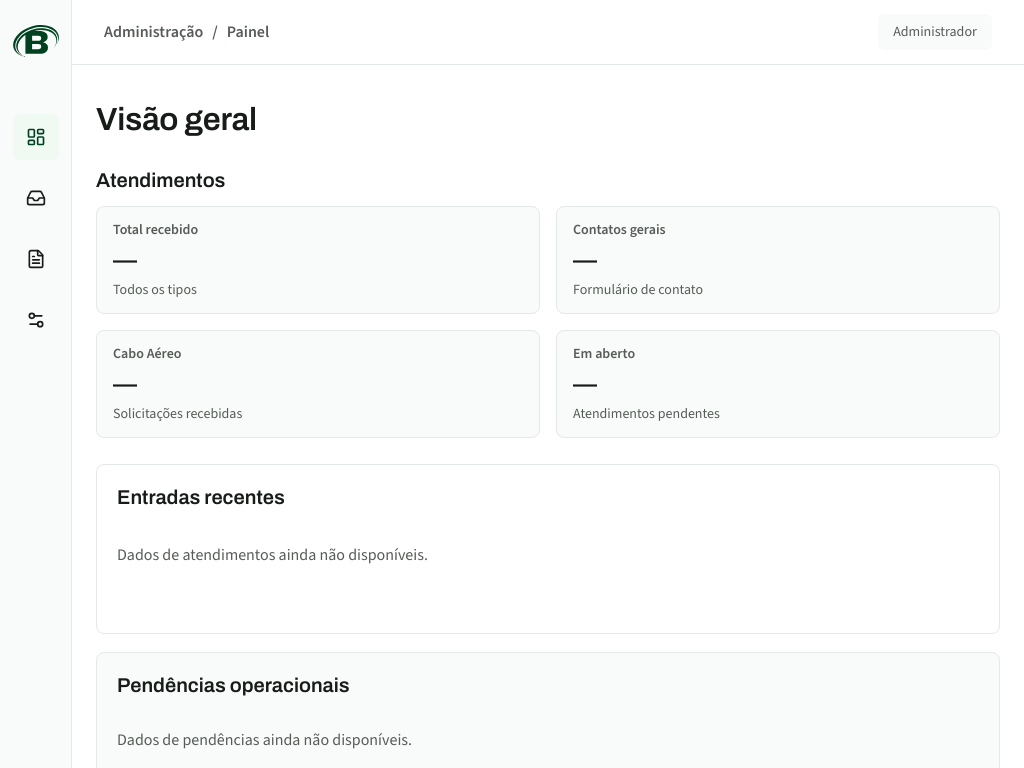
ADM-02 — menu de perfil nas telas maiores › exibe logout somente ao abrir as opcoes do administrador
Expected: the heading "Visão geral" is shown, [96, 102, 257, 137]
Click the button with aria-label "Abrir opções da conta".
click(935, 32)  # box [878, 14, 992, 50]
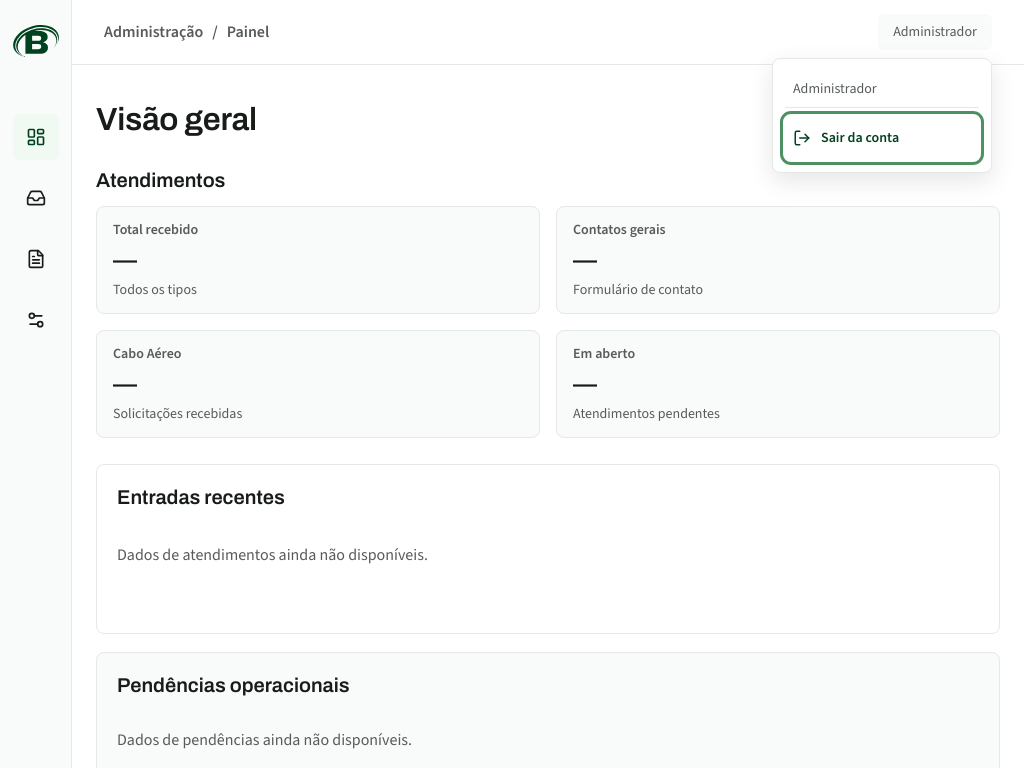
Now the 2nd text "Administrador" is shown, box [785, 71, 979, 108]
Now the button "Sair da conta" is shown, box [785, 116, 979, 160]
